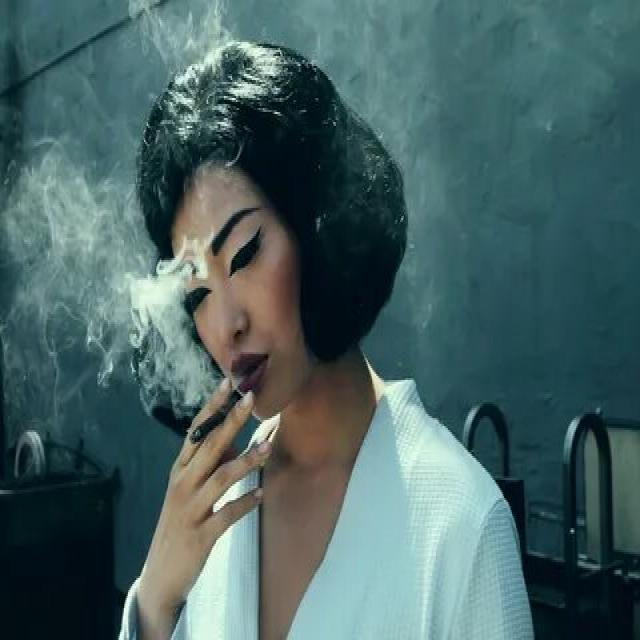smoke: (188, 394, 237, 460)
